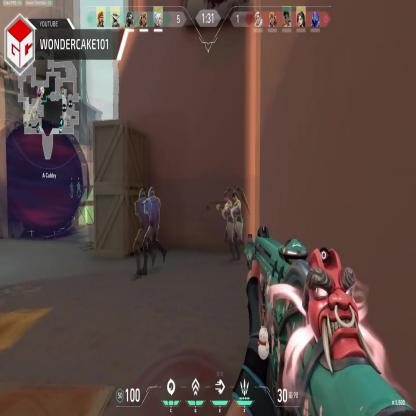enemy: (138, 184, 166, 275), (224, 187, 246, 261)
enemy_head: (147, 186, 154, 198), (232, 190, 238, 200)
